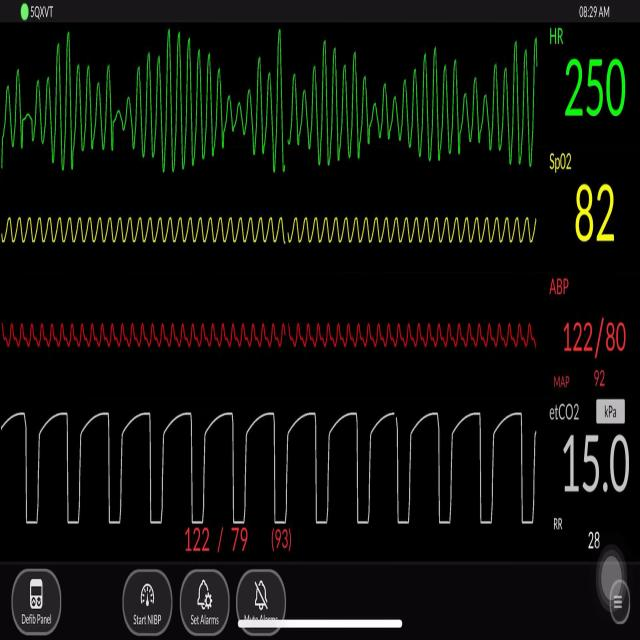danger: (7, 25, 539, 184)
